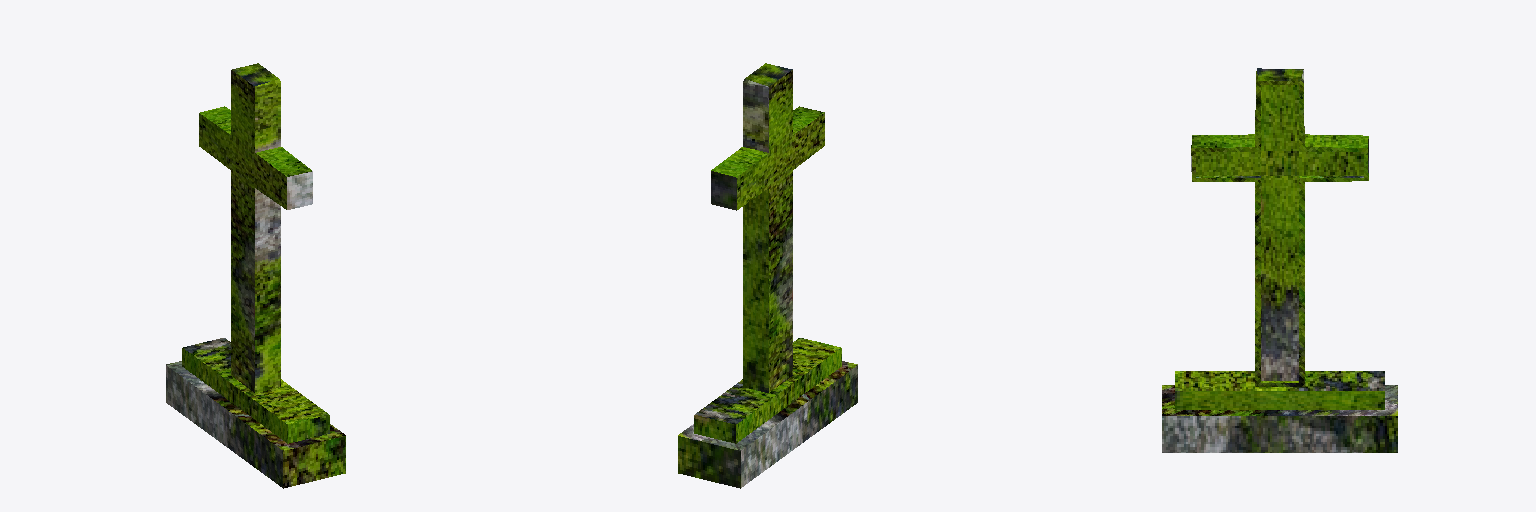
3 renders of one model, left to right at view 1: azimuth 30°, elevation 25°; view 2: azimuth 150°, elevation 25°; view 3: azimuth 270°, elevation 25°, orthographic.
Parts seen in each view (by area): view 1: Tombstone6.001; view 2: Tombstone6.001; view 3: Tombstone6.001.
Part boxes in pixels (left/top/right/bottom): Tombstone6.001: left=166, top=63, right=345, bottom=488; Tombstone6.001: left=678, top=63, right=857, bottom=488; Tombstone6.001: left=1162, top=68, right=1397, bottom=452.
Size of the model in its own units: 0.1924 by 1.06 by 0.6228.
1 materials, 1 textured.